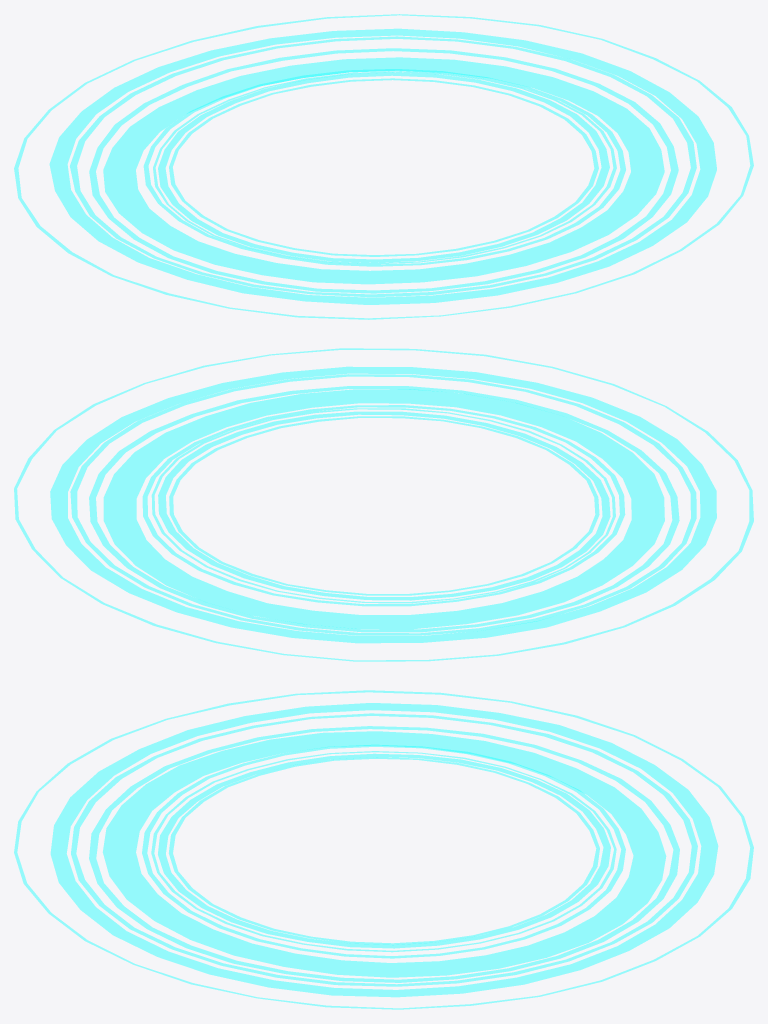
File: p_mesh_controlstation_hologram_ring01_pose0.fbx
3 views of the same model, one above another, from view 1: azimuth 30°, elevation 25°; view 2: azimuth 150°, elevation 25°; view 3: azimuth 270°, elevation 25° (orthographic). The views are drawn at different scales.
Visible parts, largest first — view 1: hologram_rings01_pose0; view 2: hologram_rings01_pose0; view 3: hologram_rings01_pose0.
Boxes of the visible parts, left/top/right/bottom form: hologram_rings01_pose0: left=14, top=14, right=753, bottom=319; hologram_rings01_pose0: left=14, top=348, right=753, bottom=661; hologram_rings01_pose0: left=14, top=690, right=753, bottom=1009.
Size of the model in its own units: 8.36 by 0.1505 by 8.1.
